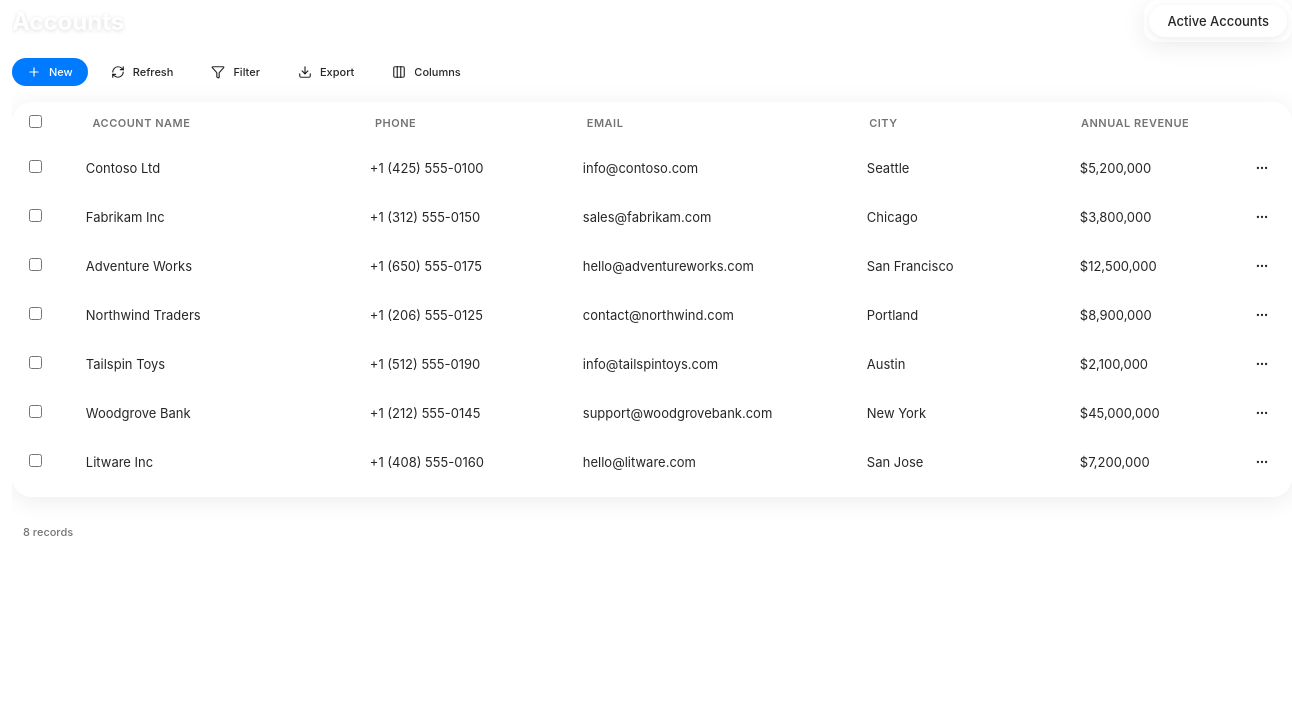
Scenario: EntityView component › toggles row selection with checkbox
Check: the text "Contoso Ltd" is shown, box [70, 144, 354, 192]
# First checkbox is the "select all" in the header, the rest are row checkboxes
Click the checkbox next to "Contoso Ltd" at (36, 166), box [29, 160, 42, 173]
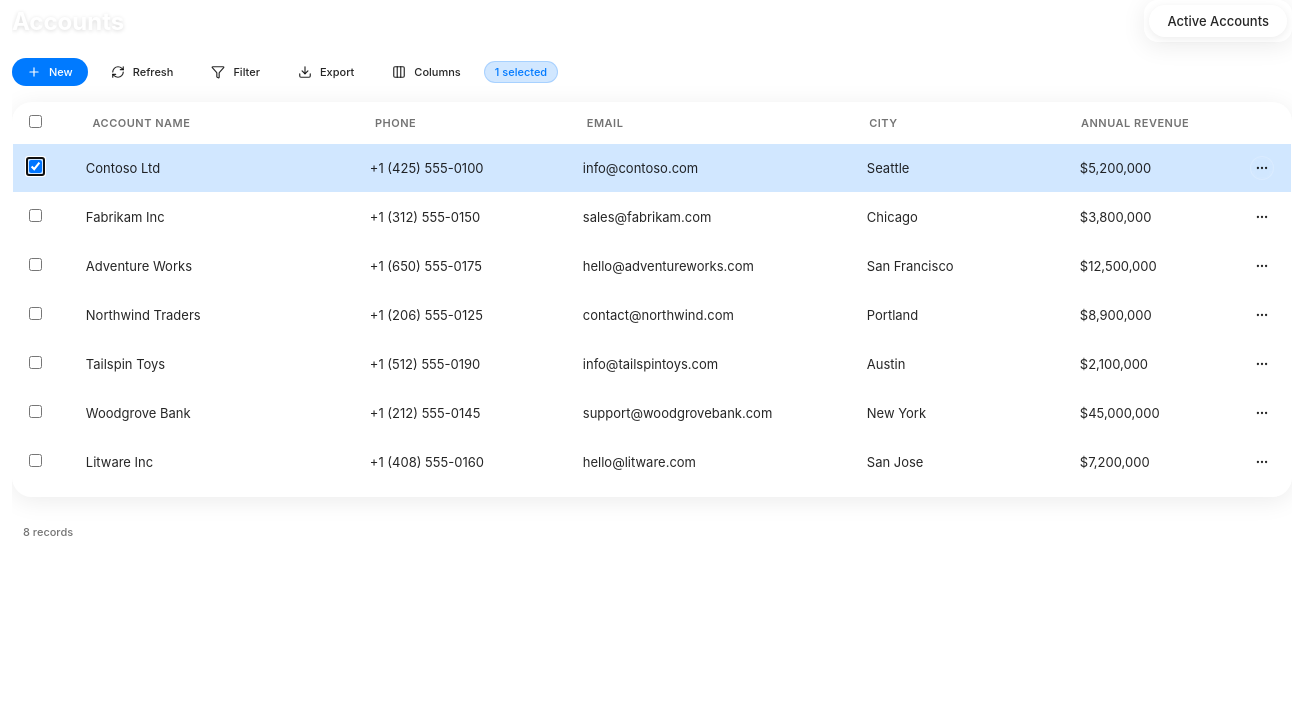
Check: the text "1 selected" is shown, box [484, 61, 558, 83]
